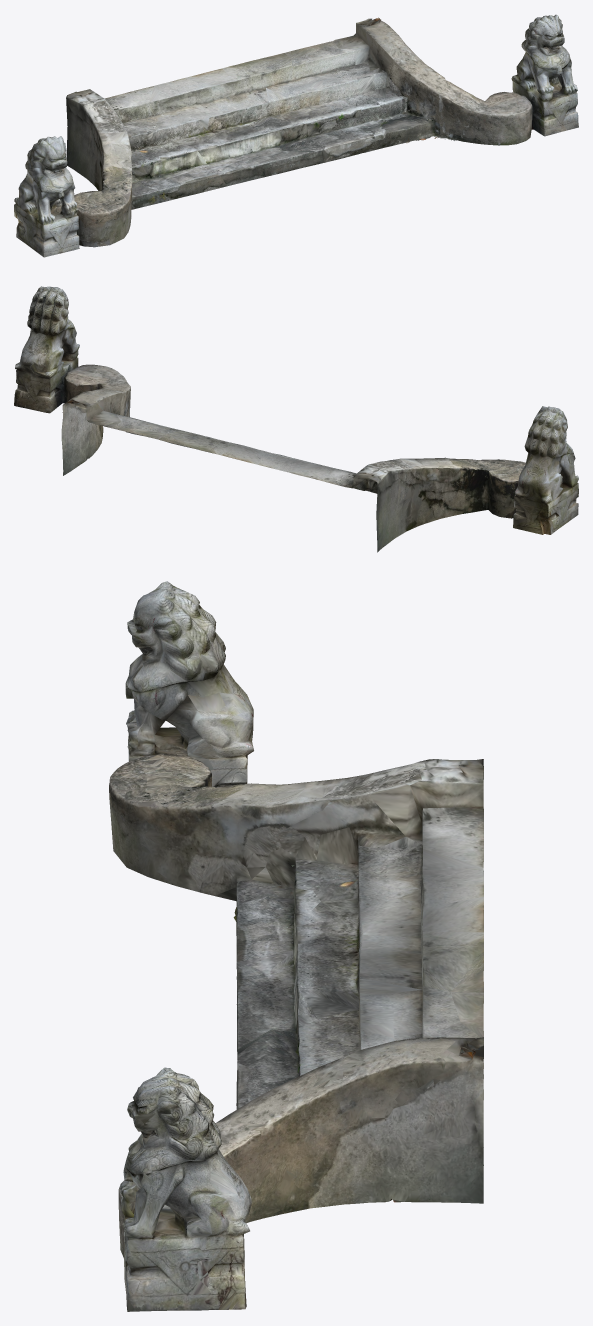
The model's file is Floor_01.fbx.
3 renders of one model, top to bottom at view 1: azimuth 30°, elevation 25°; view 2: azimuth 150°, elevation 25°; view 3: azimuth 270°, elevation 25°, orthographic. The views are drawn at different scales.
Parts seen in each view (by area): view 1: model.002; view 2: model.002; view 3: model.002.
Boxes of the visible parts, bbox=[...] form: model.002: bbox=[14, 14, 578, 257]; model.002: bbox=[14, 286, 578, 552]; model.002: bbox=[109, 581, 483, 1311].
Bounding box in the file's own units: 595 × 118 × 180.
